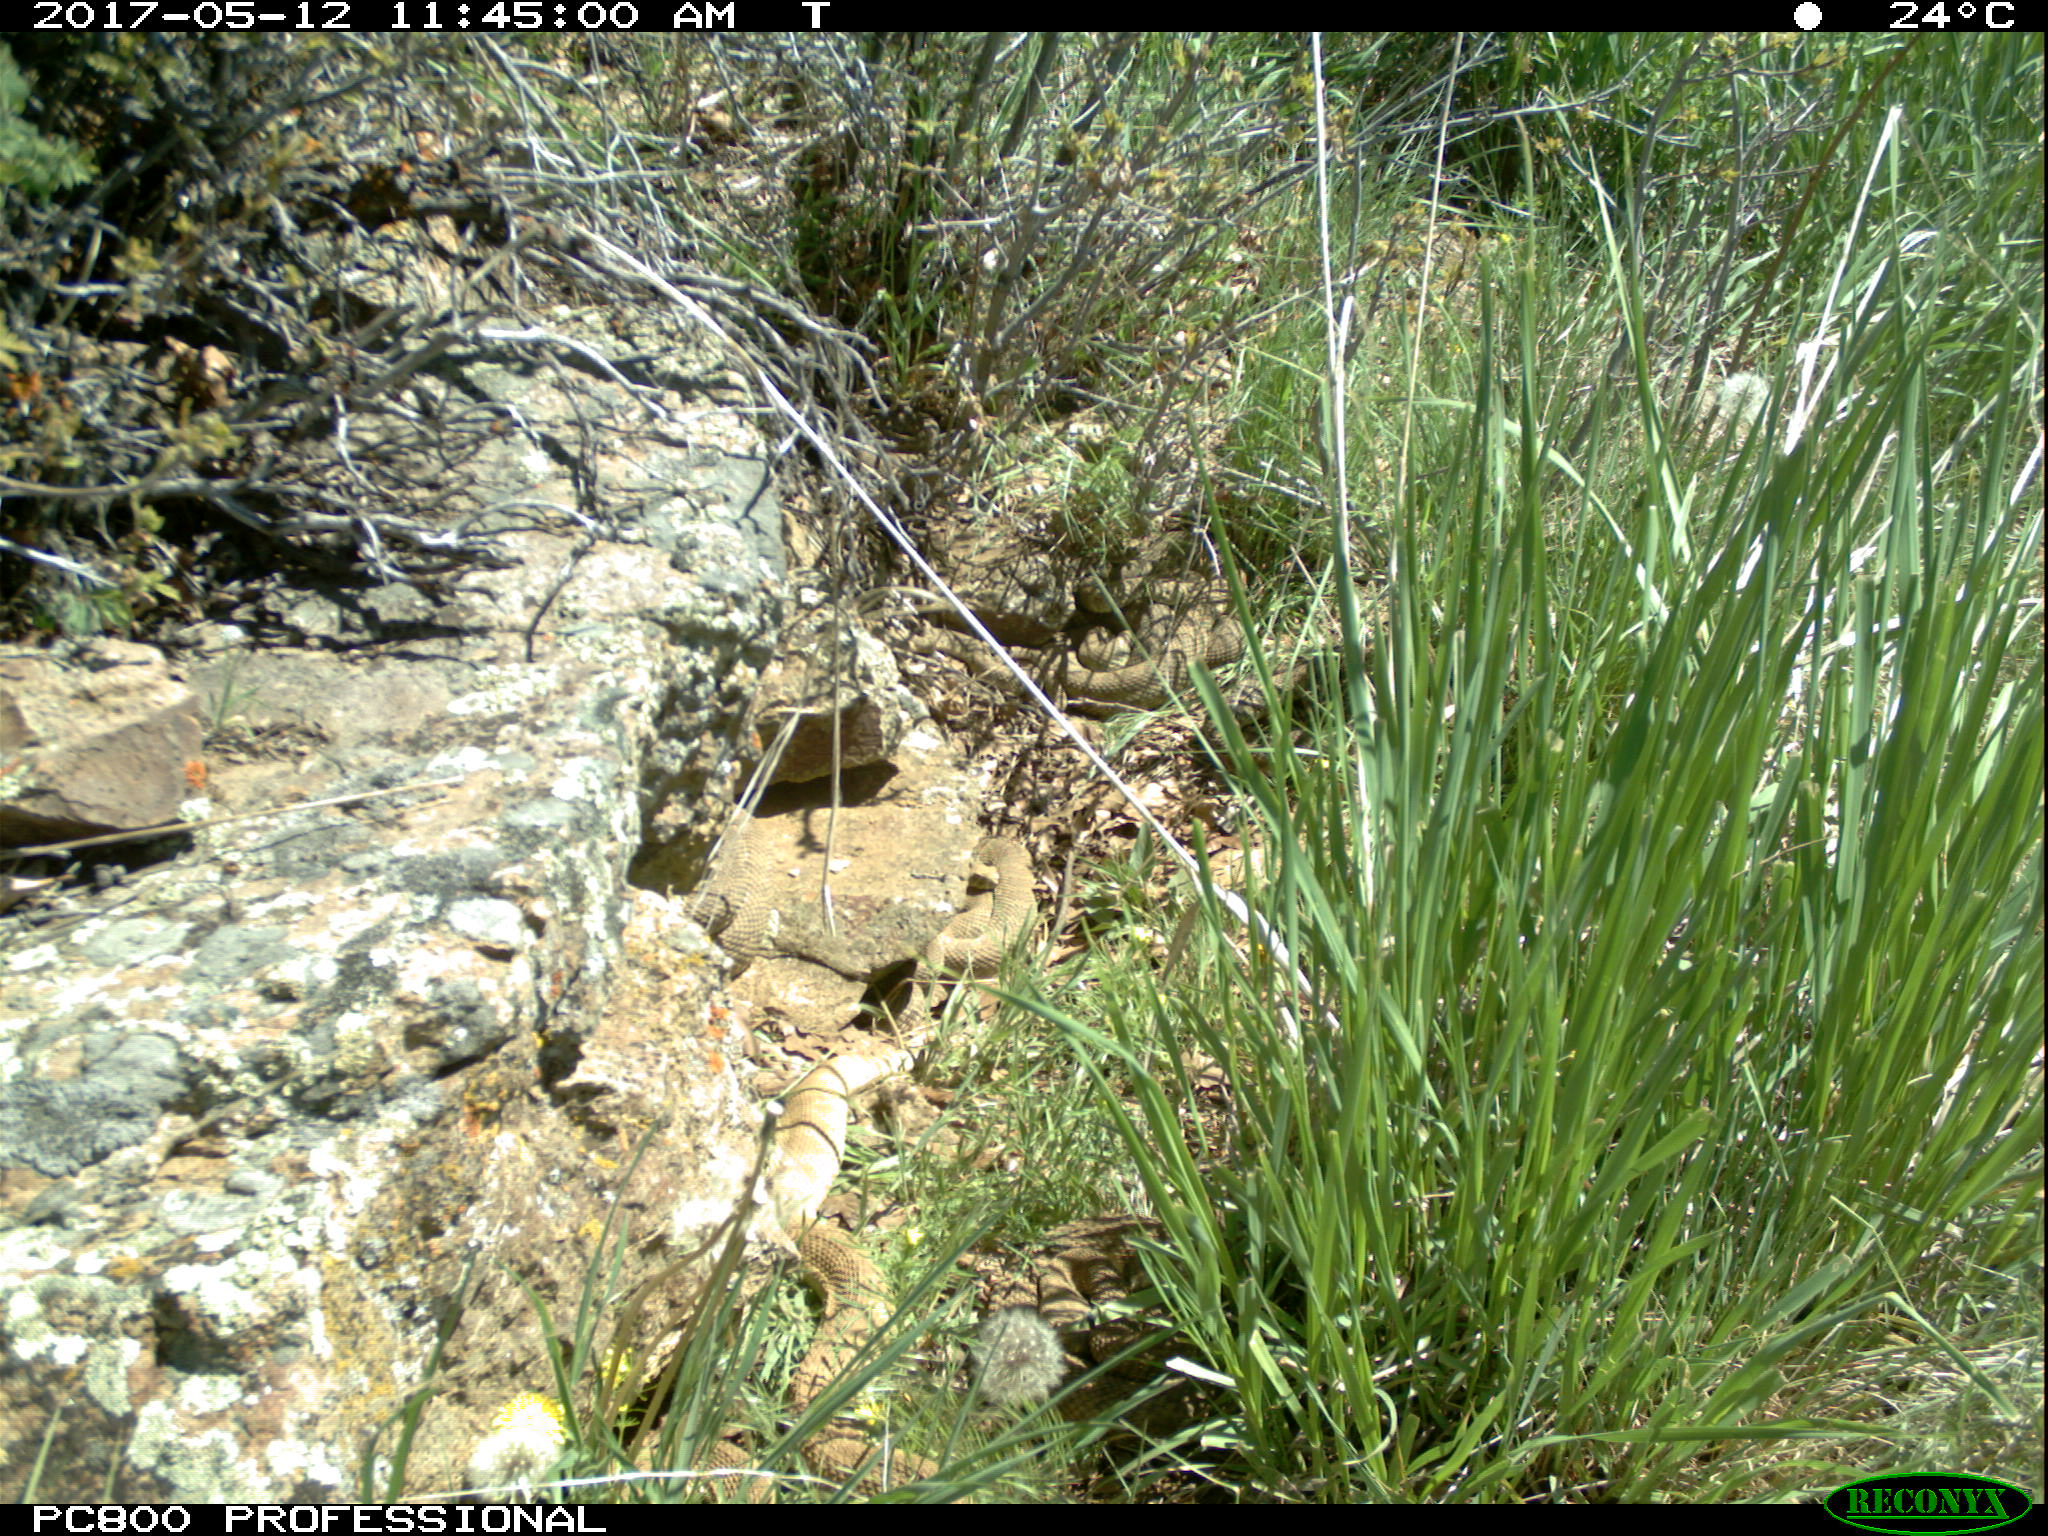snake: (769, 1049, 930, 1489), (1045, 602, 1251, 695), (682, 813, 772, 983), (932, 833, 1035, 971), (624, 1421, 774, 1502)
